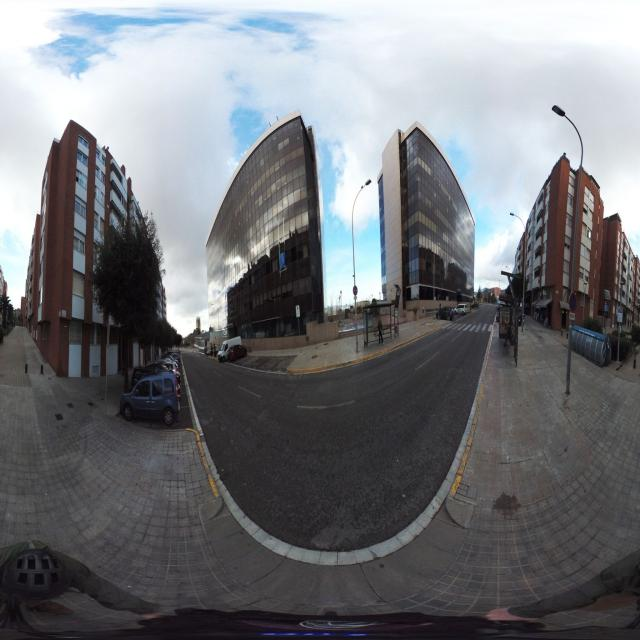forb_stopping: (569, 292, 577, 312)
forb_waiting: (353, 286, 358, 297)
